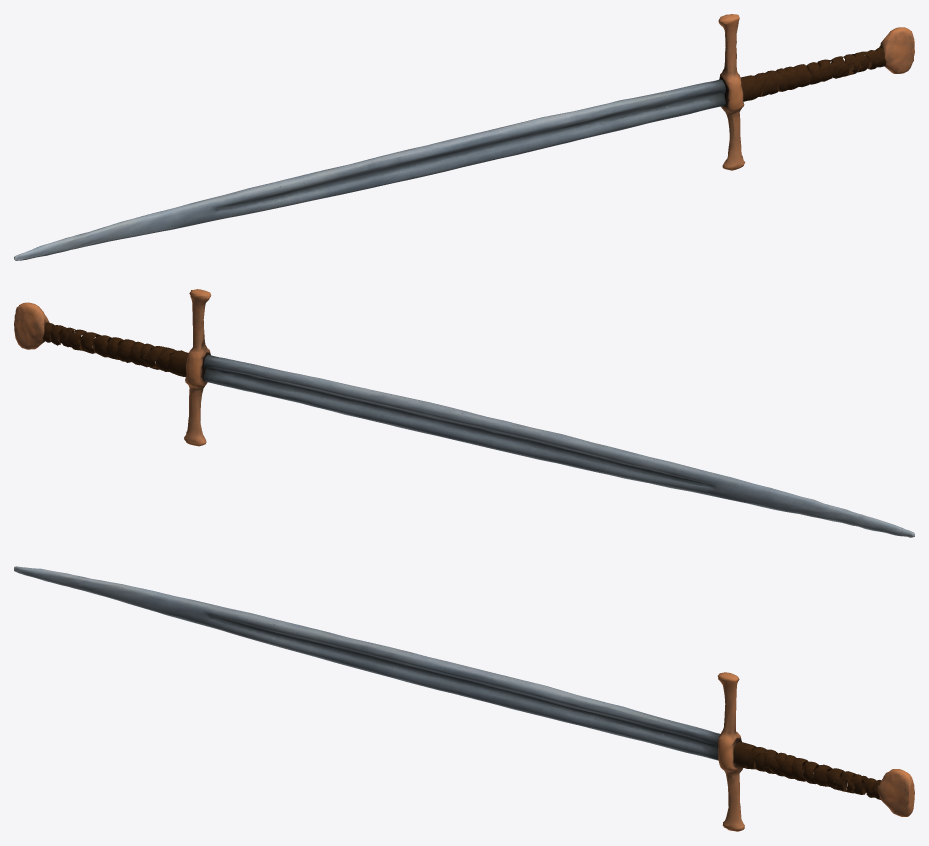
The model's file is sword.glb.
The picture shows the model from 3 angles, top to bottom: view 1: azimuth 30°, elevation 25°; view 2: azimuth 150°, elevation 25°; view 3: azimuth 330°, elevation 25°; orthographic projection.
Visible parts, largest first — view 1: geometry_0; view 2: geometry_0; view 3: geometry_0.
Boxes of the visible parts, left/top/right/bottom form: geometry_0: left=14, top=14, right=914, bottom=260; geometry_0: left=14, top=289, right=914, bottom=537; geometry_0: left=14, top=566, right=914, bottom=831.
Size of the model in its own units: 1 by 0.1653 by 0.0253.
1 material, 1 textured.
